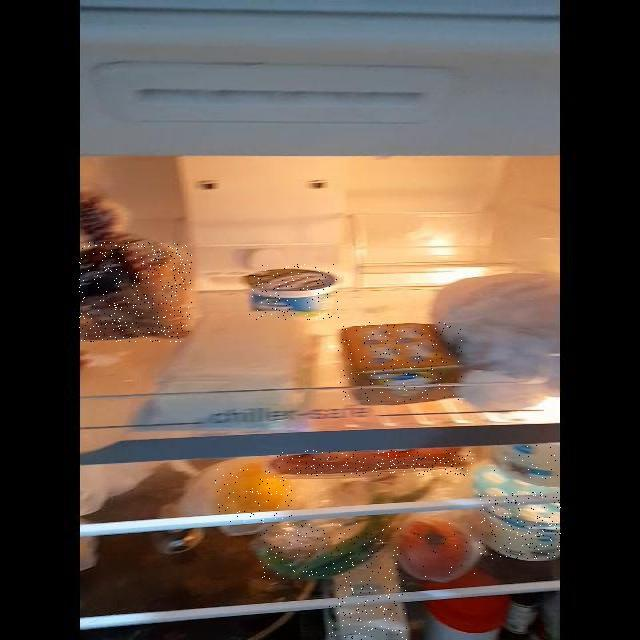bread: (79, 242, 192, 342)
butter: (338, 322, 462, 403)
carrot: (277, 450, 473, 476)
green chilies: (260, 523, 401, 580)
lemon: (215, 469, 292, 525)
milk: (329, 580, 407, 640)
tomato: (405, 521, 476, 577)
yoghurt: (479, 491, 561, 559), (250, 264, 342, 321), (487, 444, 562, 488)
